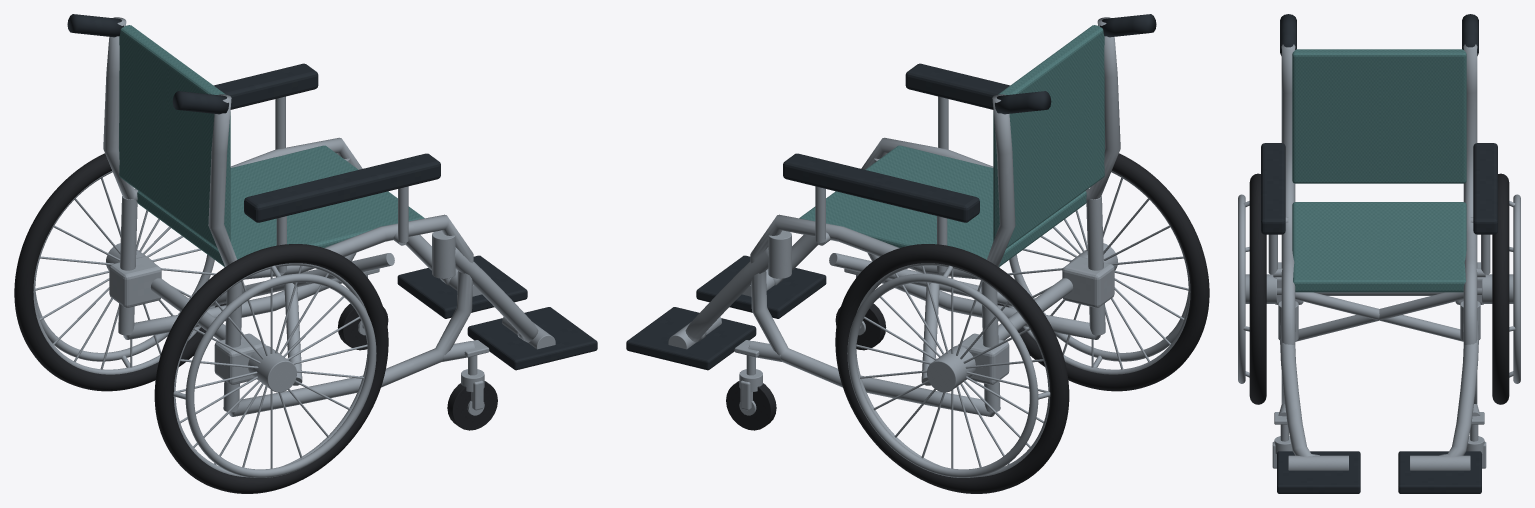
File: manual-wheelchair.glb
3 renders of one model, left to right at view 1: azimuth 30°, elevation 25°; view 2: azimuth 150°, elevation 25°; view 3: azimuth 270°, elevation 25°, orthographic. The views are drawn at different scales.
Parts seen in each view (by area): view 1: Wheelchair back sling, Wheelchair rear tyre, Wheelchair seat sling, Wheelchair frame, Wheelchair rear tyre.001, Arm rest, Hand propulsion rim, Wheelchair frame.001, Folding foot plate, Folding foot plate.001, Arm rest.001, Rear wheel axle bearing block.001 (+16 smaller); view 2: Wheelchair back sling, Wheelchair rear tyre.001, Wheelchair seat sling, Wheelchair frame.001, Wheelchair rear tyre, Arm rest.001, Hand propulsion rim.001, Wheelchair frame, Folding foot plate.001, Folding foot plate, Arm rest, Rear wheel axle bearing block (+16 smaller); view 3: Wheelchair back sling, Wheelchair seat sling, Wheelchair rear tyre, Wheelchair rear tyre.001, Wheelchair frame, Wheelchair frame.001, Folding foot plate, Folding foot plate.001, Arm rest, Arm rest.001, Folding cross brace, Folding cross brace.001 (+13 smaller).
Boxes of the visible parts, x1,y1,x2,y2 form: Wheelchair back sling: (119, 25, 230, 248); Wheelchair rear tyre: (154, 244, 388, 493); Wheelchair seat sling: (137, 145, 424, 266); Wheelchair frame: (208, 94, 473, 416); Wheelchair rear tyre.001: (14, 153, 226, 391); Arm rest: (244, 153, 440, 222); Hand propulsion rim: (185, 273, 376, 477); Wheelchair frame.001: (103, 17, 362, 339); Folding foot plate: (467, 307, 597, 370); Folding foot plate.001: (397, 255, 527, 318); Arm rest.001: (214, 63, 318, 109); Rear wheel axle bearing block.001: (109, 256, 161, 307); Wheelchair back sling: (993, 25, 1104, 248); Wheelchair rear tyre.001: (835, 244, 1069, 493); Wheelchair seat sling: (799, 145, 1086, 266); Wheelchair frame.001: (750, 94, 1015, 416); Wheelchair rear tyre: (997, 153, 1209, 391); Arm rest.001: (783, 153, 979, 222); Hand propulsion rim.001: (847, 273, 1038, 477); Wheelchair frame: (861, 17, 1120, 339); Folding foot plate.001: (626, 307, 756, 370); Folding foot plate: (696, 255, 826, 318); Arm rest: (905, 63, 1009, 109); Rear wheel axle bearing block: (1062, 256, 1114, 307); Wheelchair back sling: (1292, 49, 1466, 183); Wheelchair seat sling: (1292, 202, 1466, 292); Wheelchair rear tyre: (1249, 173, 1266, 404); Wheelchair rear tyre.001: (1492, 173, 1509, 404); Wheelchair frame: (1281, 44, 1295, 403); Wheelchair frame.001: (1463, 44, 1477, 403); Folding foot plate: (1277, 451, 1360, 493); Folding foot plate.001: (1398, 451, 1481, 493); Arm rest: (1261, 143, 1285, 234); Arm rest.001: (1473, 143, 1497, 234); Folding cross brace: (1295, 292, 1463, 341); Folding cross brace.001: (1295, 292, 1463, 341).
Bounding box in the file's own units: 1.19 × 1.02 × 0.746.
4 materials, 4 textured.
